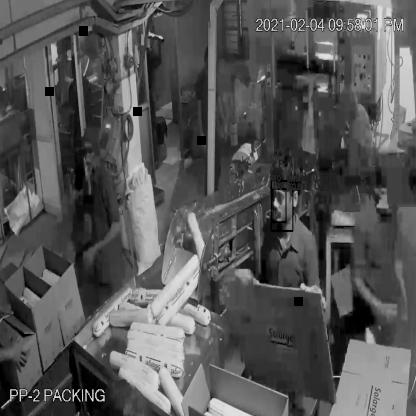no_glove: (349, 260, 401, 327), (73, 209, 125, 270), (391, 240, 412, 328), (0, 335, 32, 376), (192, 96, 210, 154), (215, 90, 230, 146)
